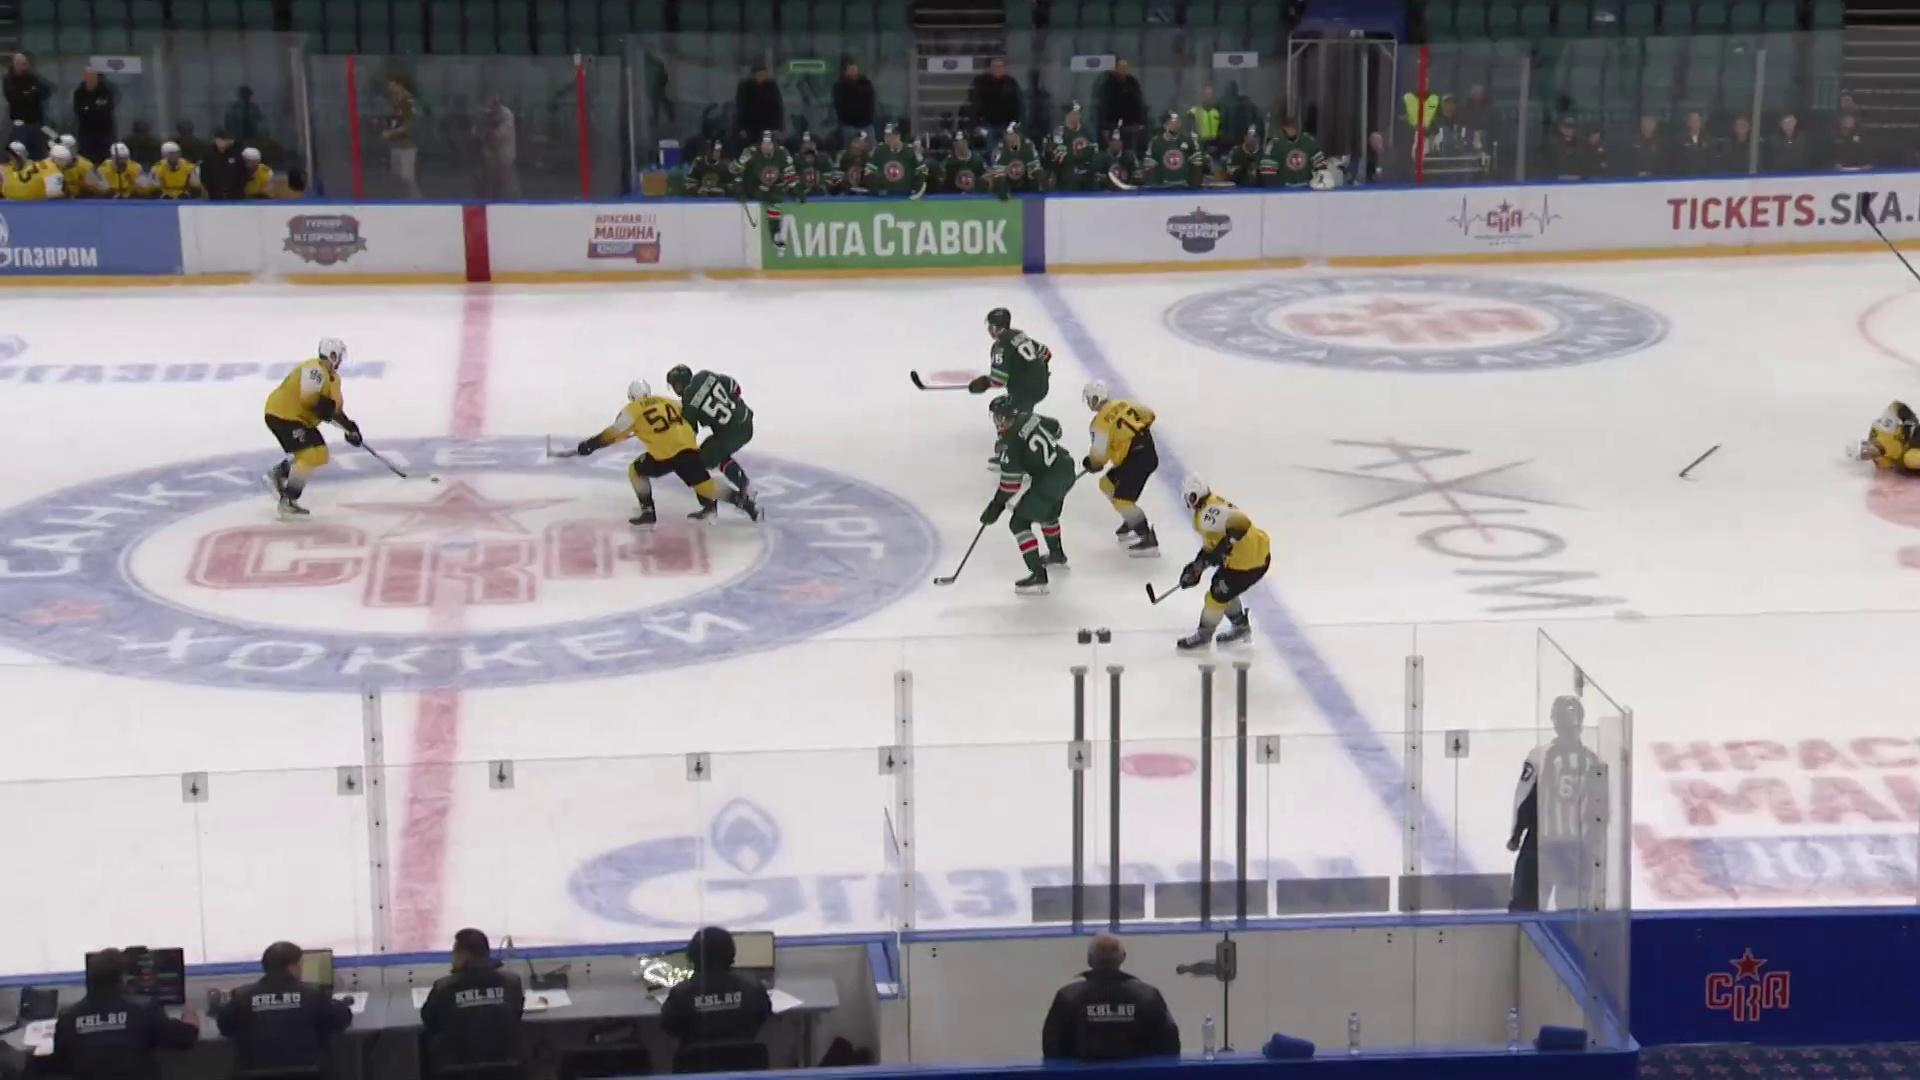ball: (430, 475, 440, 484)
